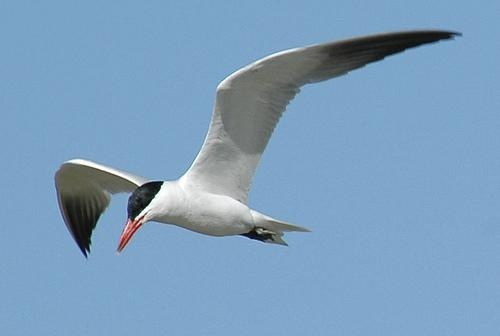bird: (49, 22, 458, 266)
